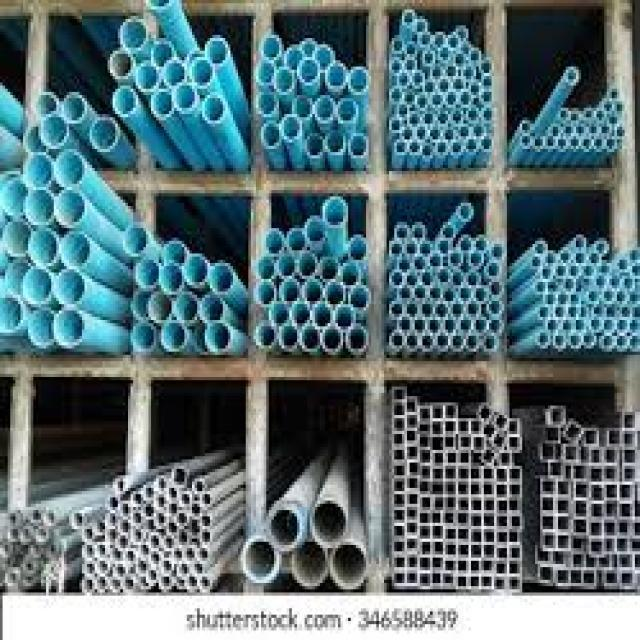pipe: (332, 542, 366, 587), (294, 540, 326, 586), (268, 506, 300, 549), (312, 499, 344, 541), (245, 539, 277, 580), (55, 269, 85, 304), (55, 308, 82, 345), (55, 152, 83, 187), (41, 113, 69, 147), (30, 228, 57, 262), (90, 118, 117, 150), (26, 190, 53, 222), (58, 190, 84, 223), (4, 221, 29, 254), (25, 155, 52, 185), (25, 268, 50, 300), (3, 180, 27, 213), (205, 323, 230, 354), (30, 312, 53, 345), (6, 258, 29, 291), (161, 322, 187, 351), (63, 234, 87, 265), (199, 293, 224, 322), (130, 323, 156, 350), (121, 22, 146, 50), (31, 90, 56, 118), (25, 123, 48, 152), (136, 256, 159, 285), (0, 295, 21, 326), (203, 95, 225, 124), (211, 263, 233, 291), (149, 294, 171, 322), (163, 239, 186, 265), (151, 40, 172, 67), (192, 59, 213, 86), (64, 92, 85, 119), (326, 198, 347, 225), (136, 63, 157, 89), (175, 295, 196, 321), (114, 89, 134, 116), (186, 256, 206, 283), (112, 51, 133, 76), (175, 86, 197, 109), (163, 62, 184, 86), (256, 280, 277, 304), (133, 290, 149, 319), (208, 37, 229, 59), (281, 115, 301, 138), (310, 304, 330, 327), (163, 265, 180, 292), (258, 90, 277, 114), (350, 69, 369, 93), (327, 62, 345, 87), (299, 59, 318, 82), (290, 302, 309, 325), (154, 89, 170, 116), (128, 227, 146, 251), (300, 326, 318, 350), (323, 327, 342, 349), (258, 324, 278, 344), (275, 69, 294, 90), (281, 325, 299, 347), (347, 329, 365, 351), (351, 287, 369, 309), (326, 282, 344, 304), (256, 59, 273, 82), (336, 101, 356, 120), (341, 262, 360, 282), (314, 96, 332, 117), (304, 280, 322, 301), (281, 280, 299, 301), (263, 123, 280, 145), (266, 229, 282, 251), (564, 420, 580, 442), (336, 307, 353, 327), (307, 133, 323, 154), (315, 46, 330, 68), (350, 134, 367, 153), (320, 258, 337, 277), (299, 255, 316, 274), (307, 218, 323, 238), (477, 403, 494, 421), (264, 36, 280, 55), (286, 48, 302, 67), (271, 302, 287, 321), (351, 238, 365, 259), (280, 254, 294, 275), (289, 231, 305, 249), (294, 97, 309, 116), (259, 256, 274, 275), (329, 132, 343, 151), (482, 446, 496, 464), (174, 466, 188, 484), (71, 512, 86, 528), (395, 223, 409, 239), (550, 408, 563, 425), (389, 117, 402, 134), (412, 224, 425, 241), (108, 495, 120, 513), (389, 302, 403, 317), (392, 38, 405, 54), (390, 241, 403, 257), (428, 285, 441, 301), (405, 302, 418, 318), (493, 413, 506, 429), (493, 432, 506, 448), (435, 302, 447, 319), (451, 302, 463, 319), (406, 333, 418, 350), (443, 224, 456, 239), (398, 287, 411, 302), (458, 286, 471, 301), (465, 302, 478, 317), (444, 318, 457, 333), (474, 318, 487, 333), (436, 333, 449, 348), (483, 422, 496, 437), (490, 244, 502, 260), (420, 302, 432, 318), (421, 334, 433, 350), (569, 332, 581, 348), (583, 331, 595, 347), (303, 40, 314, 57), (431, 66, 442, 83), (391, 333, 402, 350), (433, 33, 446, 47), (390, 272, 403, 286), (445, 65, 457, 80), (460, 204, 472, 219), (460, 238, 472, 253), (476, 237, 488, 252), (438, 269, 450, 284), (466, 271, 478, 286), (459, 318, 471, 333), (484, 334, 496, 349), (538, 331, 549, 347), (487, 263, 500, 276), (437, 110, 449, 124), (450, 252, 462, 266), (471, 252, 483, 266), (414, 317, 426, 331), (452, 335, 464, 349), (482, 107, 493, 122), (443, 127, 454, 142), (520, 135, 531, 150), (398, 258, 409, 273), (414, 285, 425, 300), (474, 287, 485, 302), (489, 318, 500, 333), (574, 236, 585, 251), (610, 273, 621, 288), (84, 577, 95, 592), (116, 477, 126, 493), (395, 557, 407, 570), (496, 516, 508, 529), (574, 504, 586, 517), (606, 503, 618, 516), (566, 68, 578, 81), (406, 242, 418, 255), (438, 240, 450, 253), (595, 241, 607, 254), (601, 335, 613, 348), (199, 576, 211, 589), (37, 527, 49, 540), (406, 271, 417, 285), (421, 271, 432, 285), (490, 282, 501, 296), (443, 288, 454, 302), (428, 318, 439, 332), (535, 241, 546, 255), (589, 251, 600, 265), (568, 264, 579, 278), (617, 335, 628, 349), (132, 528, 143, 542), (48, 541, 59, 555), (544, 444, 554, 459), (413, 72, 423, 87), (452, 141, 462, 156), (628, 248, 638, 263), (554, 334, 564, 349), (121, 503, 131, 518), (445, 408, 457, 420), (605, 450, 617, 462), (573, 521, 585, 533), (619, 555, 631, 567), (432, 480, 443, 493), (446, 481, 457, 494), (470, 547, 483, 558), (605, 575, 618, 586), (399, 74, 410, 87), (462, 67, 473, 80), (409, 113, 420, 126), (429, 128, 440, 141), (413, 257, 424, 270), (430, 255, 441, 268), (467, 335, 478, 348), (598, 263, 609, 276), (590, 318, 601, 331), (194, 479, 205, 492), (180, 561, 191, 574), (32, 544, 43, 557), (542, 515, 552, 529), (459, 125, 469, 139), (453, 272, 463, 286), (400, 318, 410, 332), (202, 514, 212, 528), (10, 527, 20, 541), (556, 263, 565, 278), (393, 479, 404, 491), (393, 541, 405, 552), (444, 559, 456, 570), (508, 502, 519, 514), (496, 546, 507, 558), (547, 430, 558, 442), (609, 434, 620, 446), (606, 467, 617, 479), (577, 485, 589, 496), (542, 499, 553, 511), (622, 576, 633, 588), (592, 524, 603, 536), (438, 50, 449, 62), (417, 95, 428, 107), (420, 243, 431, 255), (117, 536, 128, 548), (111, 578, 122, 590), (23, 574, 34, 586), (394, 419, 404, 432), (502, 453, 512, 466), (574, 468, 587, 478), (604, 537, 614, 550), (592, 541, 602, 554), (620, 504, 630, 517), (630, 538, 640, 551), (404, 11, 414, 24), (422, 33, 432, 46), (448, 35, 458, 48), (457, 27, 467, 40), (454, 53, 464, 66), (483, 61, 493, 74), (452, 110, 462, 123), (468, 109, 478, 122), (482, 137, 492, 150), (545, 252, 555, 265), (532, 256, 542, 269), (618, 258, 628, 271), (603, 289, 613, 302), (538, 306, 548, 319), (120, 520, 130, 533), (177, 513, 187, 526), (2, 542, 12, 555), (433, 408, 442, 422), (591, 449, 600, 463), (415, 54, 424, 68), (470, 51, 479, 65), (535, 136, 544, 150), (133, 492, 142, 506), (459, 530, 470, 541), (445, 545, 456, 556), (496, 578, 507, 589), (624, 469, 635, 480), (558, 484, 569, 495), (556, 572, 567, 583), (409, 33, 420, 44), (420, 525, 430, 537), (434, 453, 444, 465), (433, 437, 443, 449), (445, 423, 455, 435), (474, 439, 484, 451), (470, 499, 480, 511), (456, 575, 466, 587), (497, 562, 507, 574), (484, 481, 494, 493), (623, 435, 633, 447), (619, 488, 631, 498), (559, 535, 569, 547), (575, 538, 585, 550), (482, 91, 492, 103), (460, 92, 470, 104), (615, 126, 625, 138), (479, 274, 489, 286), (541, 267, 551, 279), (582, 265, 592, 277), (588, 290, 598, 302), (616, 318, 626, 330), (201, 495, 211, 507), (84, 561, 94, 573), (194, 562, 204, 574), (32, 512, 42, 524), (408, 522, 417, 535), (425, 81, 434, 94), (392, 89, 401, 102), (589, 122, 598, 135), (617, 289, 626, 302), (554, 305, 563, 318), (630, 335, 639, 348), (158, 478, 167, 491), (156, 513, 165, 526), (85, 543, 94, 556), (393, 437, 403, 448), (407, 448, 417, 459), (420, 435, 430, 446), (394, 574, 405, 584), (431, 527, 442, 537), (432, 468, 443, 478), (446, 436, 456, 447), (471, 515, 481, 526), (445, 529, 456, 539), (481, 578, 492, 588), (497, 502, 507, 513), (510, 518, 521, 528), (564, 448, 575, 458), (585, 433, 596, 443), (624, 452, 634, 463), (549, 463, 560, 473), (538, 552, 548, 563), (541, 567, 551, 578), (558, 138, 568, 149), (492, 301, 502, 312), (575, 253, 585, 264), (596, 277, 606, 288), (557, 293, 567, 304), (547, 319, 557, 330), (139, 577, 149, 588), (8, 514, 18, 525), (421, 497, 430, 509), (434, 541, 443, 553), (460, 544, 469, 556), (484, 529, 493, 541), (484, 499, 493, 511), (593, 486, 602, 498), (607, 486, 616, 498), (544, 534, 553, 546), (554, 551, 563, 563), (558, 500, 567, 512), (593, 504, 602, 516), (391, 61, 400, 73), (483, 76, 492, 88), (410, 141, 419, 153), (583, 137, 592, 149), (609, 112, 618, 124), (609, 88, 618, 100), (546, 294, 555, 306), (604, 319, 613, 331), (181, 492, 190, 504), (156, 494, 165, 506), (178, 530, 187, 542), (162, 575, 171, 587), (200, 548, 209, 560), (9, 570, 18, 582), (191, 521, 198, 536), (395, 404, 403, 417), (407, 398, 415, 411), (459, 499, 467, 512), (510, 485, 518, 498), (574, 571, 582, 584), (601, 122, 609, 135), (481, 304, 489, 317), (606, 305, 614, 318), (145, 486, 153, 499), (169, 502, 177, 515), (23, 528, 31, 541), (394, 388, 404, 398), (421, 560, 431, 570), (458, 469, 468, 479), (509, 438, 519, 448), (498, 470, 508, 480), (511, 470, 521, 480), (623, 418, 633, 428), (575, 555, 585, 565), (584, 572, 594, 582), (437, 143, 447, 153), (421, 410, 430, 421), (408, 508, 417, 519), (447, 498, 456, 509), (510, 578, 519, 589), (497, 486, 506, 497), (496, 532, 507, 541), (510, 561, 519, 572), (617, 540, 626, 551), (417, 21, 426, 32), (470, 83, 479, 94), (453, 80, 462, 91), (405, 92, 414, 103), (396, 143, 405, 154), (423, 144, 432, 155), (467, 140, 476, 151), (551, 125, 560, 136), (571, 137, 580, 148), (564, 124, 573, 135), (606, 139, 615, 150), (629, 292, 638, 303), (567, 306, 576, 317), (562, 320, 571, 331), (143, 505, 152, 516), (107, 529, 116, 540), (150, 535, 159, 546), (202, 529, 211, 540), (408, 416, 416, 428), (420, 449, 428, 461), (409, 556, 417, 568), (423, 542, 431, 554), (472, 422, 484, 430), (461, 438, 469, 450), (446, 574, 454, 586), (634, 521, 640, 537), (425, 53, 433, 65), (547, 138, 555, 150), (604, 100, 612, 112), (565, 279, 573, 291), (632, 306, 640, 318), (100, 576, 108, 588), (46, 512, 54, 524), (435, 497, 442, 510), (409, 463, 418, 473), (396, 526, 406, 535), (421, 577, 431, 586), (433, 423, 442, 433), (445, 468, 455, 477), (461, 422, 470, 432), (472, 483, 481, 493), (445, 514, 454, 524), (471, 532, 480, 542), (458, 562, 468, 571), (484, 514, 493, 524), (511, 547, 520, 557), (590, 470, 599, 480), (605, 525, 614, 535), (433, 94, 442, 104), (447, 93, 456, 103), (474, 125, 483, 135), (577, 124, 586, 134), (621, 307, 630, 317), (629, 320, 638, 330), (107, 516, 116, 526), (145, 520, 154, 530), (113, 549, 122, 559), (151, 552, 160, 562), (150, 584, 160, 593), (396, 510, 404, 521), (407, 431, 415, 442), (422, 466, 430, 477), (409, 478, 417, 489), (421, 481, 429, 492), (472, 470, 480, 481), (471, 561, 479, 572), (470, 577, 478, 588), (510, 531, 518, 542), (580, 448, 588, 459), (542, 482, 553, 490), (406, 44, 414, 55), (399, 105, 407, 116), (418, 127, 426, 138), (584, 110, 592, 121), (615, 101, 623, 112), (562, 249, 570, 260), (537, 281, 545, 292), (548, 280, 556, 291), (579, 307, 587, 318), (169, 488, 177, 499), (141, 544, 149, 555), (186, 547, 194, 558), (139, 560, 147, 571), (149, 569, 157, 580), (25, 560, 33, 571), (603, 555, 610, 567), (475, 69, 482, 81), (576, 279, 583, 291), (166, 536, 173, 548), (396, 466, 405, 475), (433, 574, 442, 583), (394, 452, 404, 460), (396, 495, 404, 505), (407, 496, 417, 504), (407, 574, 417, 582), (460, 453, 468, 463), (471, 453, 479, 463), (560, 519, 568, 529), (406, 61, 414, 71), (462, 44, 470, 54), (440, 81, 448, 91), (425, 113, 433, 123), (570, 111, 578, 121), (596, 109, 604, 119), (593, 306, 601, 316), (632, 265, 640, 275), (192, 505, 200, 515), (98, 522, 106, 532), (85, 529, 93, 539), (176, 548, 184, 558), (595, 138, 602, 149), (118, 563, 125, 574), (433, 559, 442, 567), (433, 513, 441, 522), (459, 513, 467, 522), (485, 547, 493, 556), (473, 98, 481, 107), (403, 130, 411, 139), (100, 560, 108, 569), (164, 561, 172, 570), (177, 577, 185, 586), (447, 453, 454, 463), (509, 423, 516, 433), (619, 525, 626, 535), (522, 122, 529, 132), (571, 294, 578, 304), (170, 585, 180, 592), (420, 512, 428, 520), (460, 485, 468, 493), (483, 561, 491, 569), (485, 470, 493, 478), (189, 576, 197, 584), (409, 540, 416, 549), (400, 55, 407, 64), (560, 109, 567, 118), (576, 319, 583, 328), (133, 512, 140, 521), (128, 576, 135, 585), (422, 425, 430, 432), (192, 538, 199, 546), (100, 546, 107, 554), (128, 549, 135, 557), (165, 550, 173, 557), (130, 564, 137, 572), (423, 68, 429, 77), (170, 522, 176, 531), (99, 535, 105, 543), (108, 568, 114, 576), (566, 469, 570, 479), (173, 565, 177, 574), (194, 495, 199, 502), (160, 528, 165, 534)
